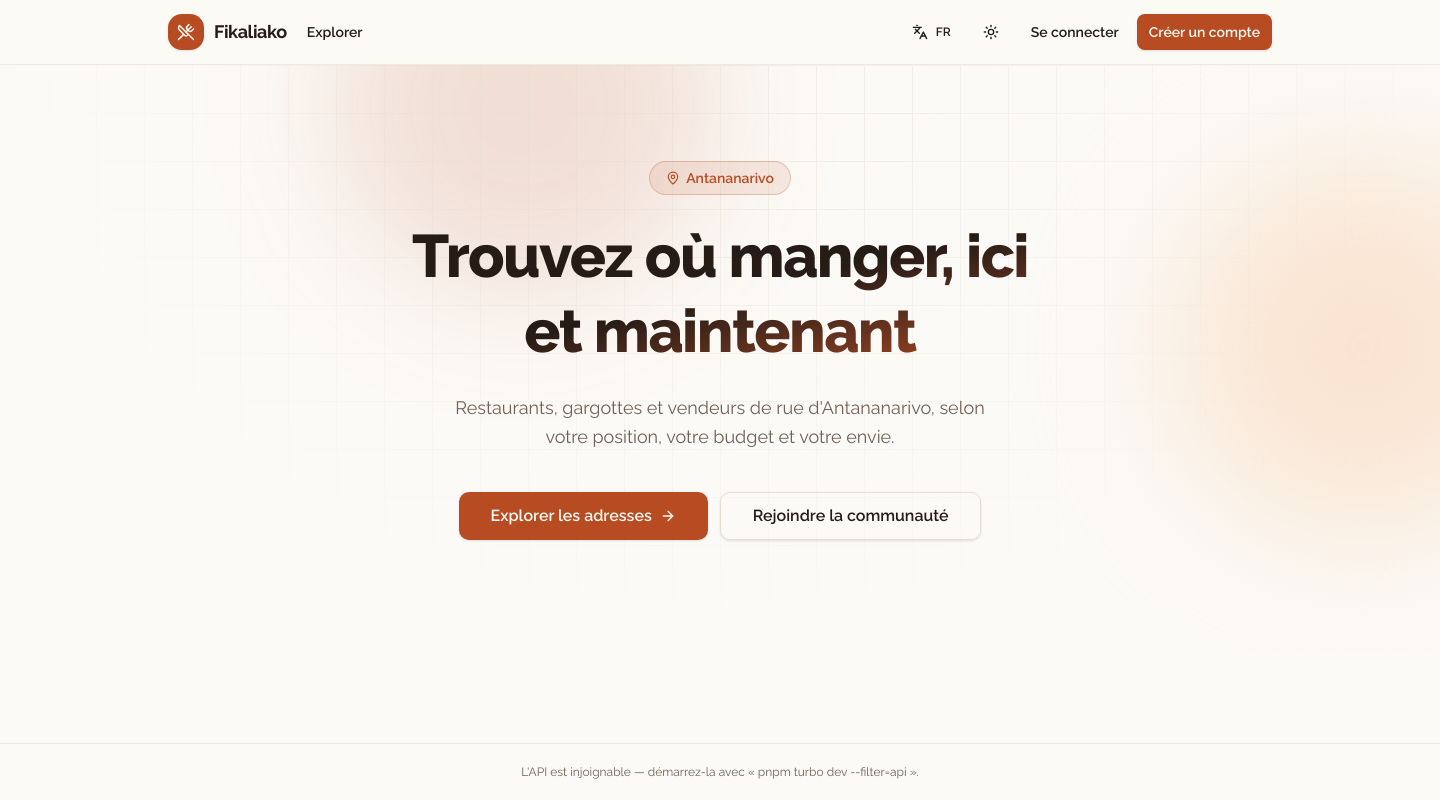
landing page › switches locale to English and back to French
Click the button with aria-label "Langue".
click(932, 32)  # box [900, 14, 963, 50]
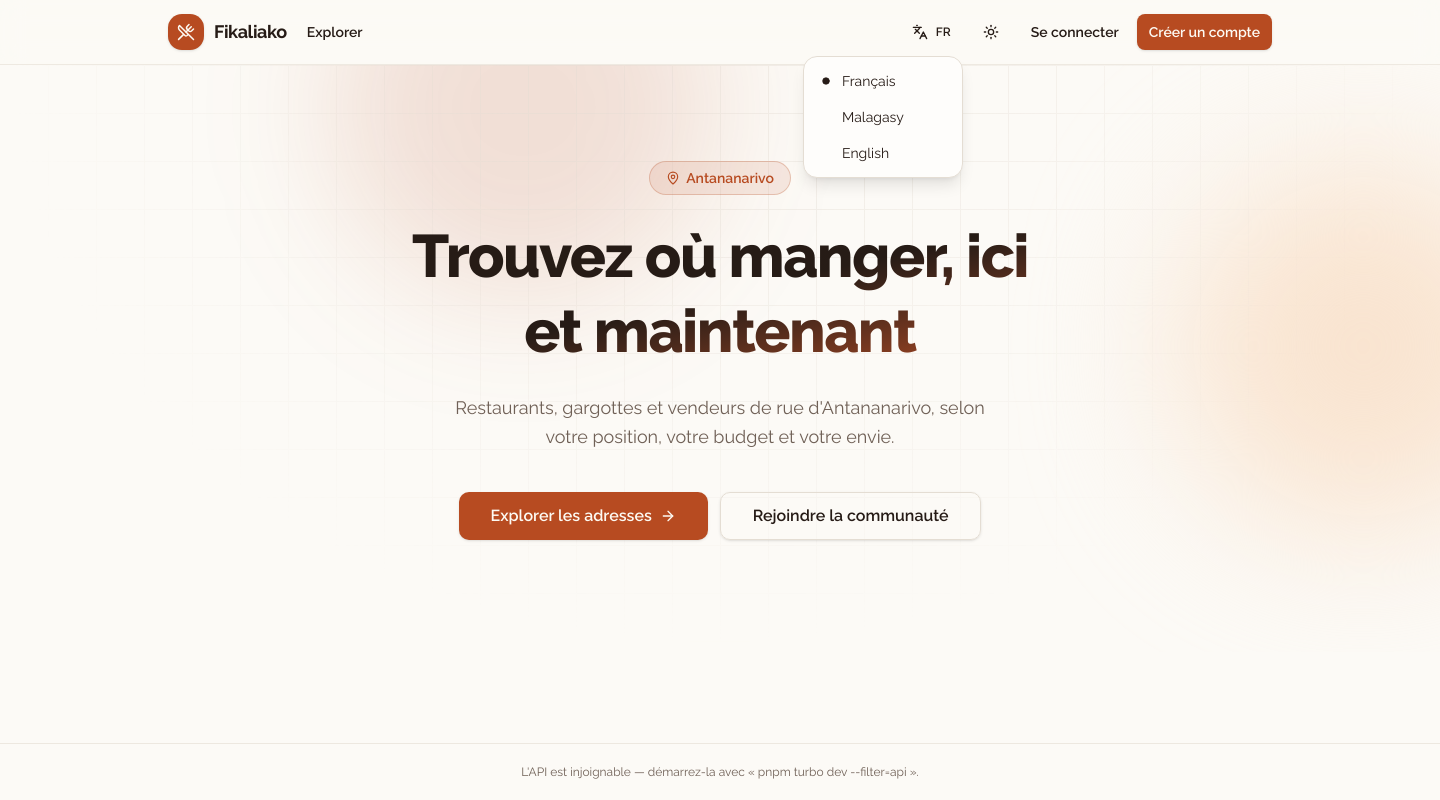
Click the menu item "English".
click(866, 153)  # box [842, 145, 889, 161]
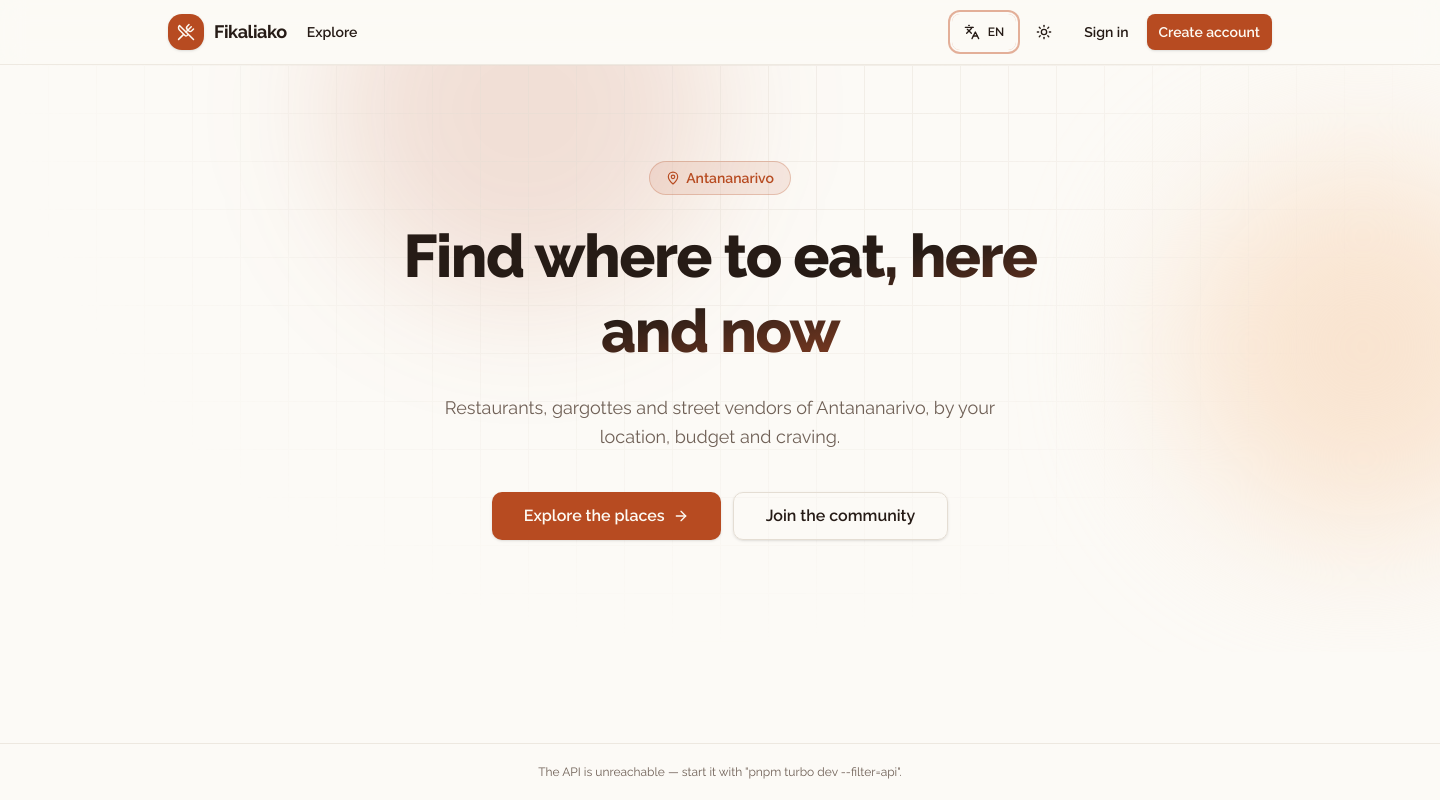
Now the link "Sign in" is shown, box [1084, 24, 1128, 40]
Now the heading "Find where to eat, here and now" is shown, box [384, 219, 1056, 369]
Click the button with aria-label "Language".
click(985, 32)  # box [952, 14, 1017, 50]
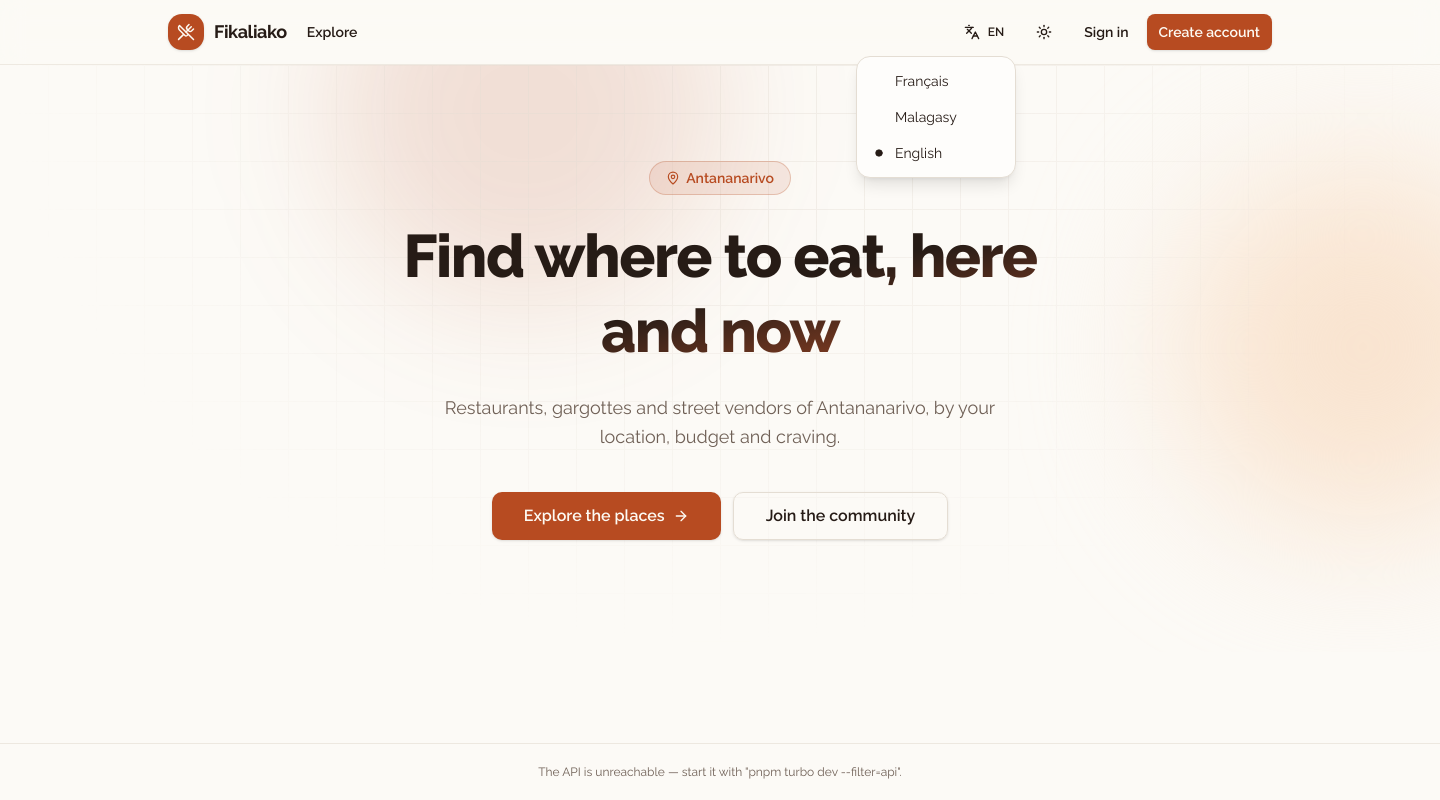
Click the menu item "Français".
click(922, 81)  # box [895, 73, 949, 89]
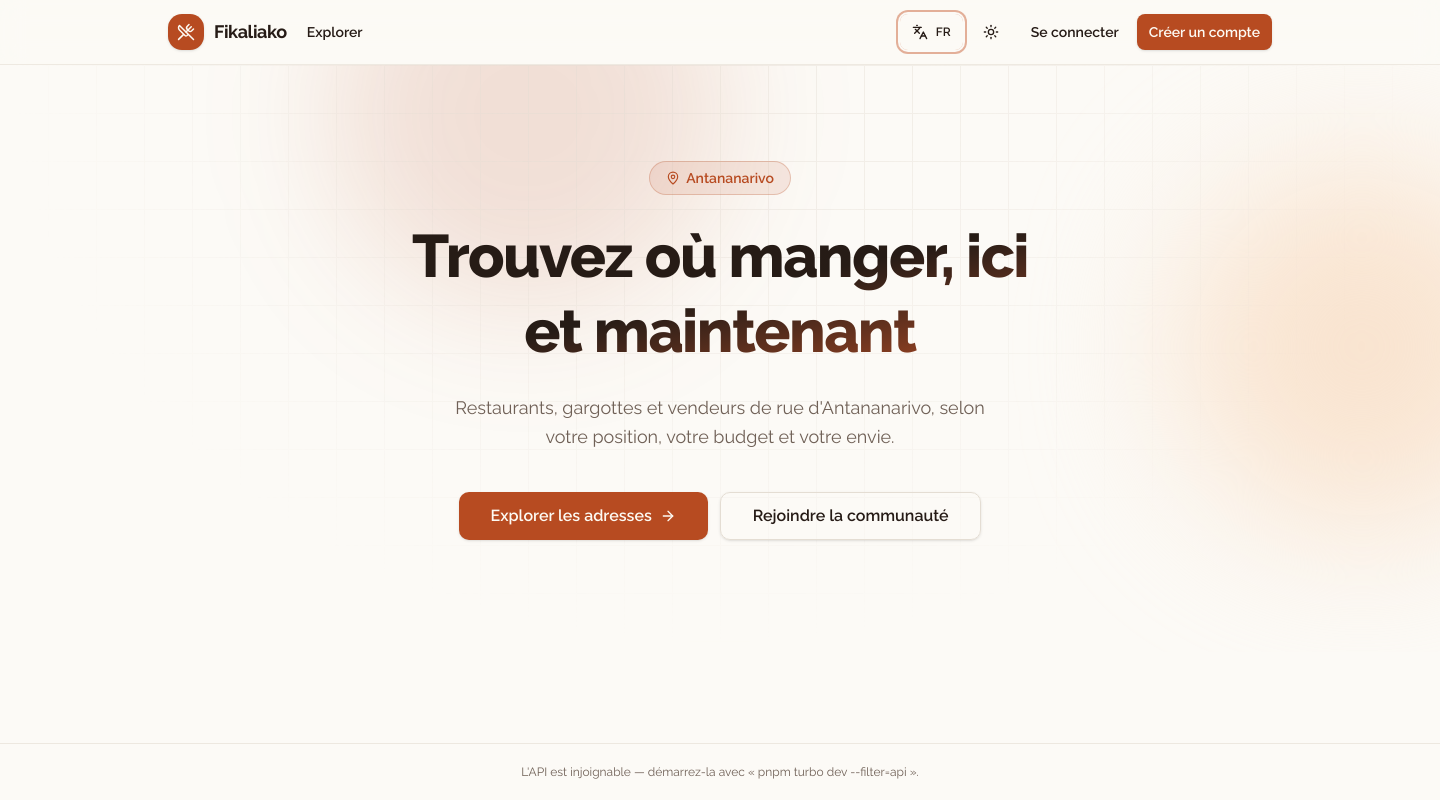
Now the link "Se connecter" is shown, box [1031, 24, 1119, 40]
